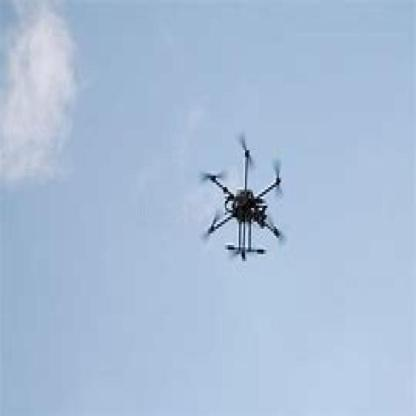drone: (193, 125, 291, 268)
